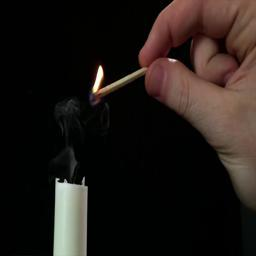fire: (91, 65, 103, 93)
